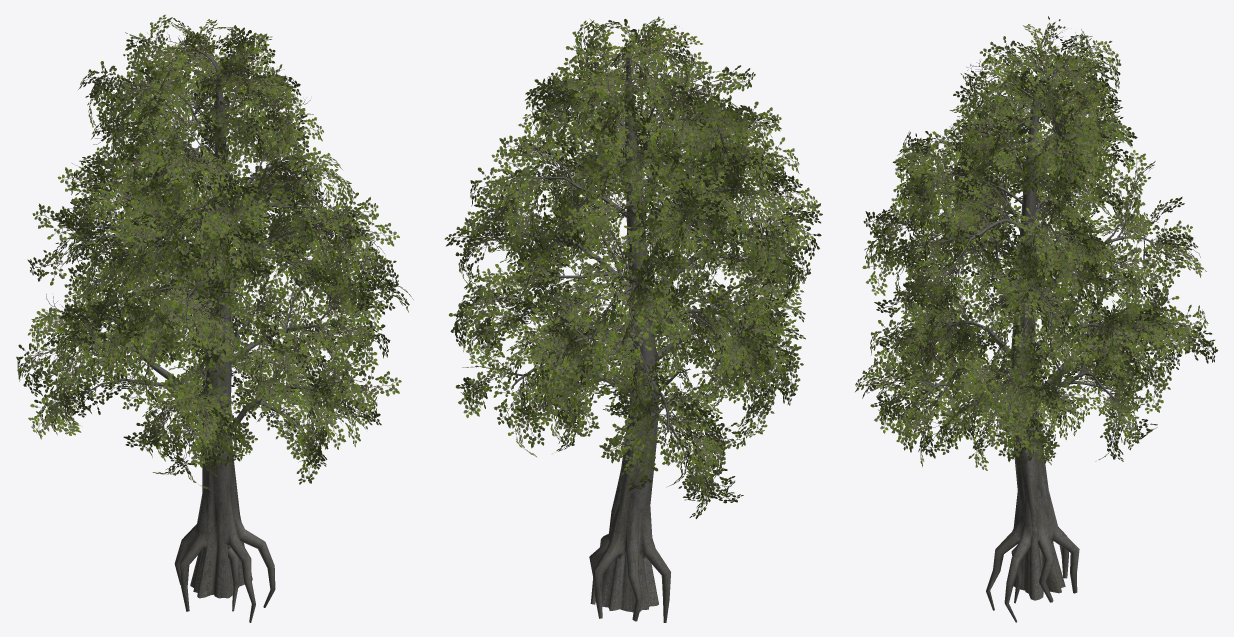
Rendered from tilleul.glb.
3 renders of one model, left to right at view 1: azimuth 30°, elevation 25°; view 2: azimuth 150°, elevation 25°; view 3: azimuth 270°, elevation 25°, orthographic. The views are drawn at different scales.
Visible parts, largest first — view 1: Linden_LOD0_M_Branch.005_0, Linden_LOD0_M_Bark.005_0; view 2: Linden_LOD0_M_Branch.005_0, Linden_LOD0_M_Bark.005_0; view 3: Linden_LOD0_M_Branch.005_0, Linden_LOD0_M_Bark.005_0.
Boxes of the visible parts, x1=… form: Linden_LOD0_M_Branch.005_0: x1=16, y1=14, x2=413, y2=489; Linden_LOD0_M_Bark.005_0: x1=40, y1=37, x2=370, y2=622; Linden_LOD0_M_Branch.005_0: x1=444, y1=16, x2=822, y2=518; Linden_LOD0_M_Bark.005_0: x1=461, y1=40, x2=791, y2=622; Linden_LOD0_M_Branch.005_0: x1=855, y1=16, x2=1218, y2=470; Linden_LOD0_M_Bark.005_0: x1=889, y1=44, x2=1188, y2=622.
Size of the model in its own units: 10.12 by 17.82 by 10.5.
Materials: 2 (2 with a texture image).
